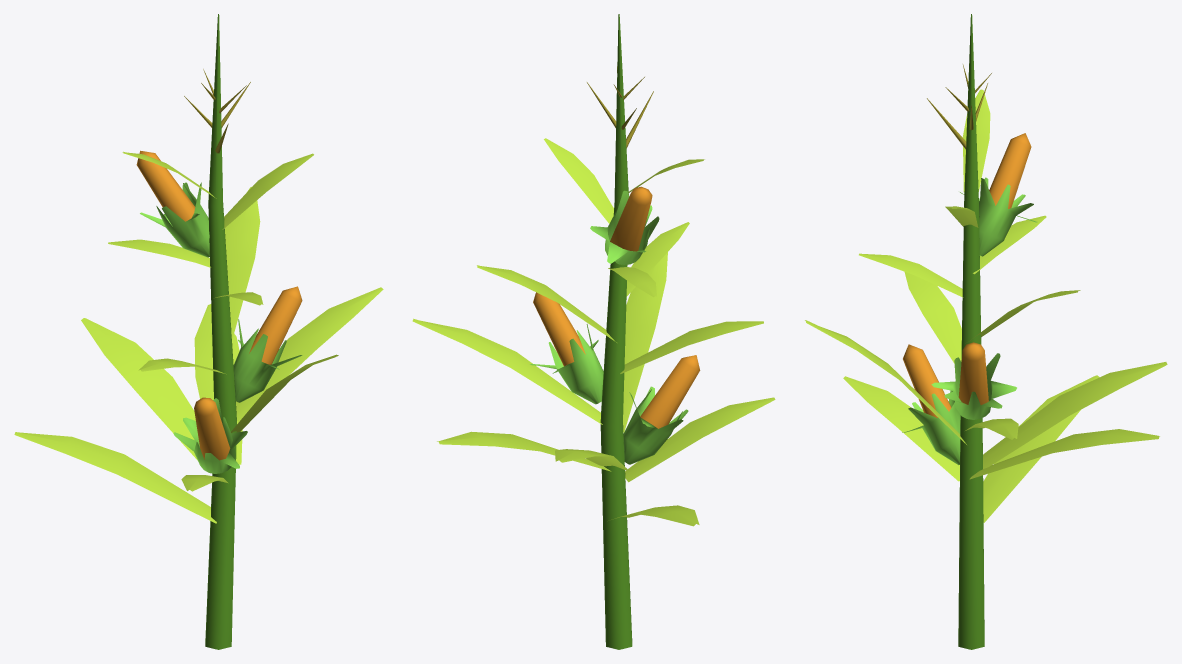
The model's file is CornPlant 1.FBX.
3 views of the same model, side by side, from view 1: azimuth 30°, elevation 25°; view 2: azimuth 150°, elevation 25°; view 3: azimuth 270°, elevation 25° (orthographic).
Visible parts, largest first — view 1: CornPlant; view 2: CornPlant; view 3: CornPlant.
Boxes of the visible parts, box(x1,y1,x2,y2) form: CornPlant: box(14, 14, 383, 649); CornPlant: box(412, 14, 775, 649); CornPlant: box(805, 14, 1167, 649).
Bounding box in the file's own units: 29.44 × 53.99 × 28.26.
